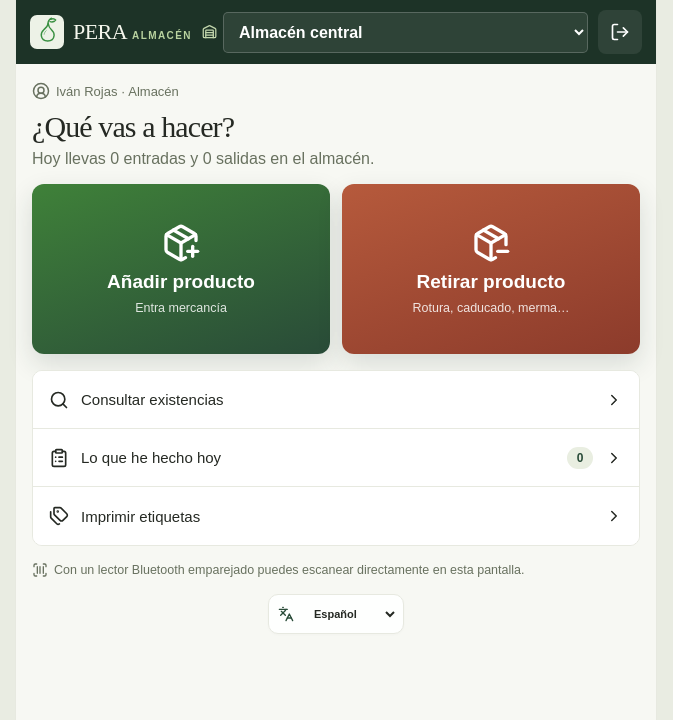
Test case: shows where the product is kept and lets the operator note where it is
Click the button "Consultar existencias" at (152, 400), box 33,371 -> 639,429
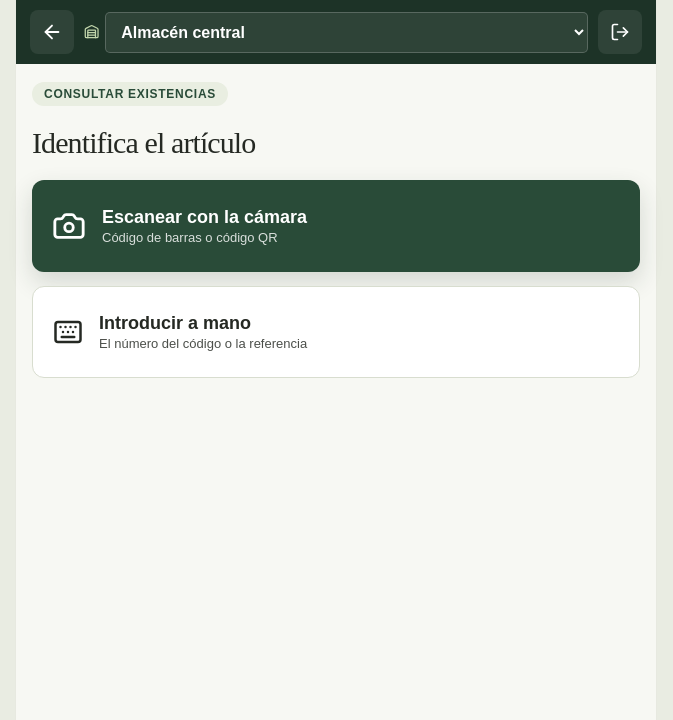
Click the text "Introducir a mano" at (175, 323), box 99,313 -> 251,333
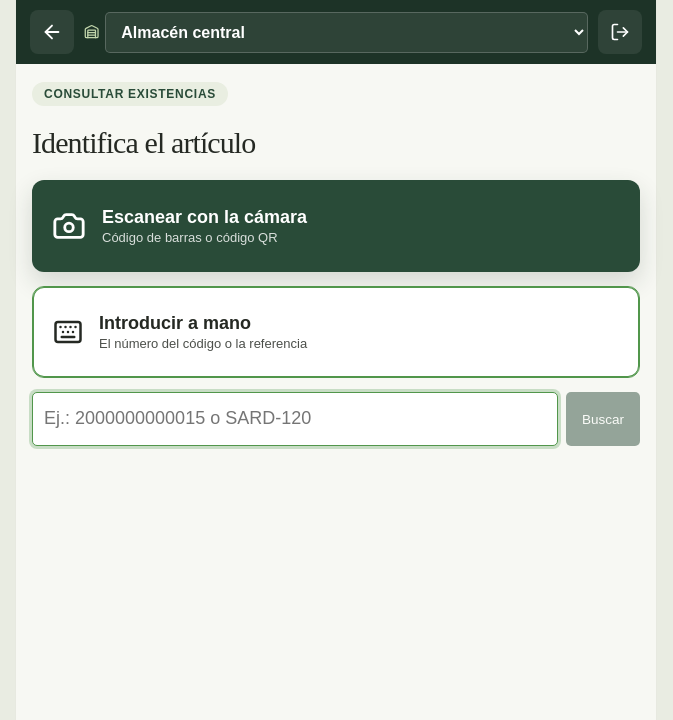
Type "SARD-120" into the field named "Código del artículo" at (295, 419), box 32,392 -> 558,446
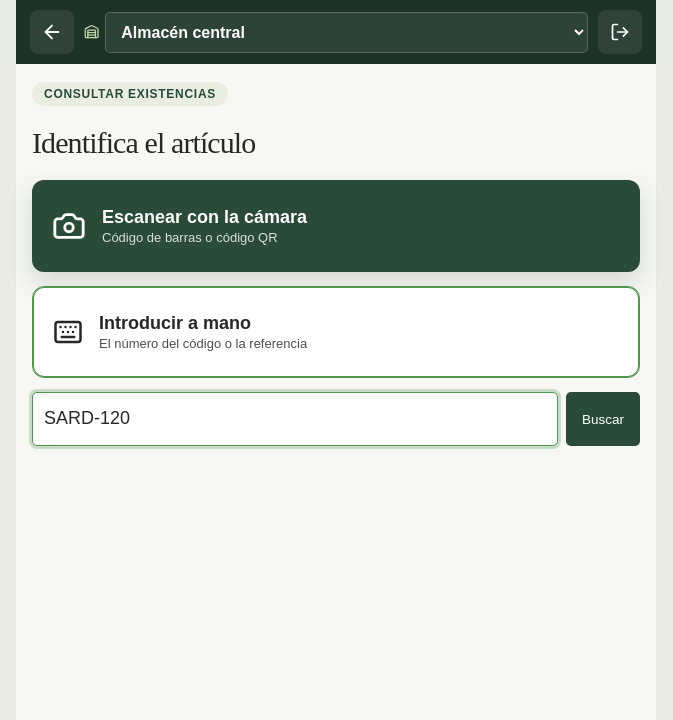
Click the button "Buscar" at (603, 419), box 566,392 -> 640,446
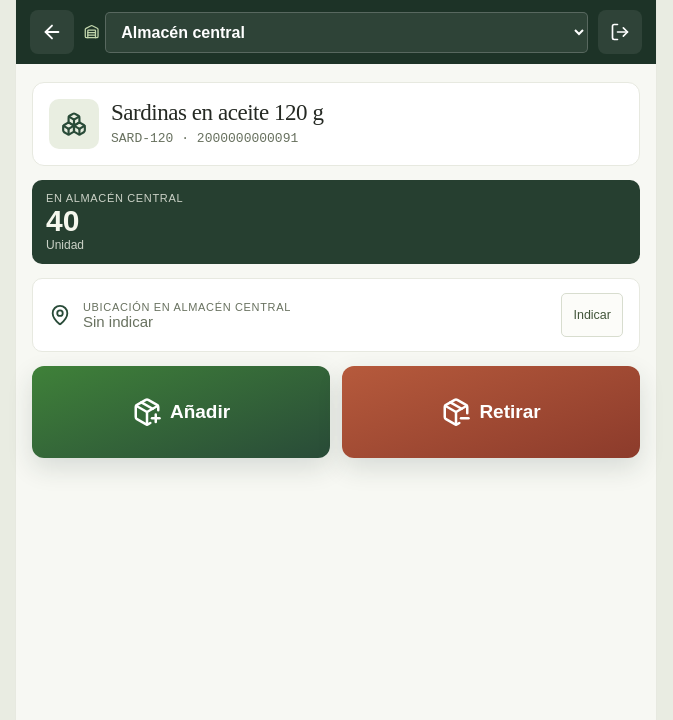
Check: the text "Sin indicar" is shown, box 83,312 -> 153,330
Click the button "Indicar" at (592, 315), box 562,293 -> 623,337
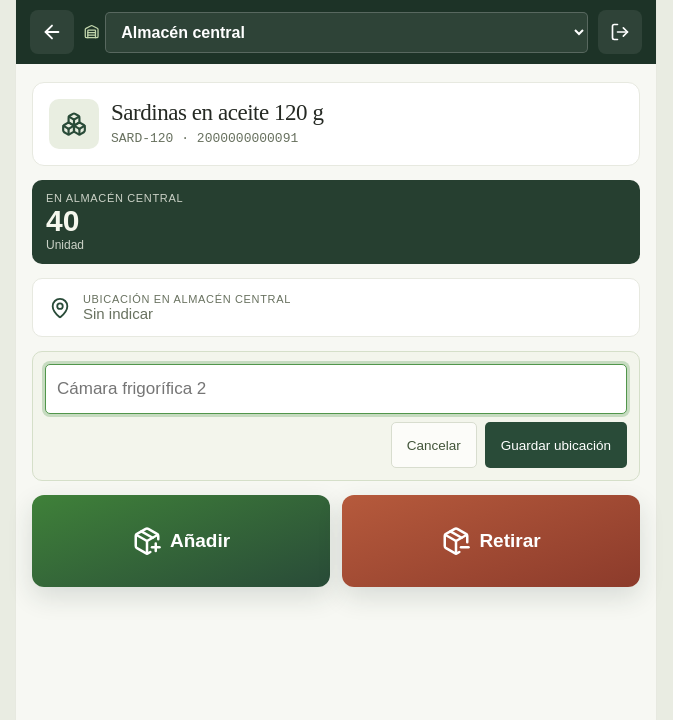
Type "Pasillo 3 · Estante B" into the field named "Ubicación" at (336, 389), box 45,364 -> 627,414
Click the button "Guardar ubicación" at (556, 445), box 485,422 -> 627,468
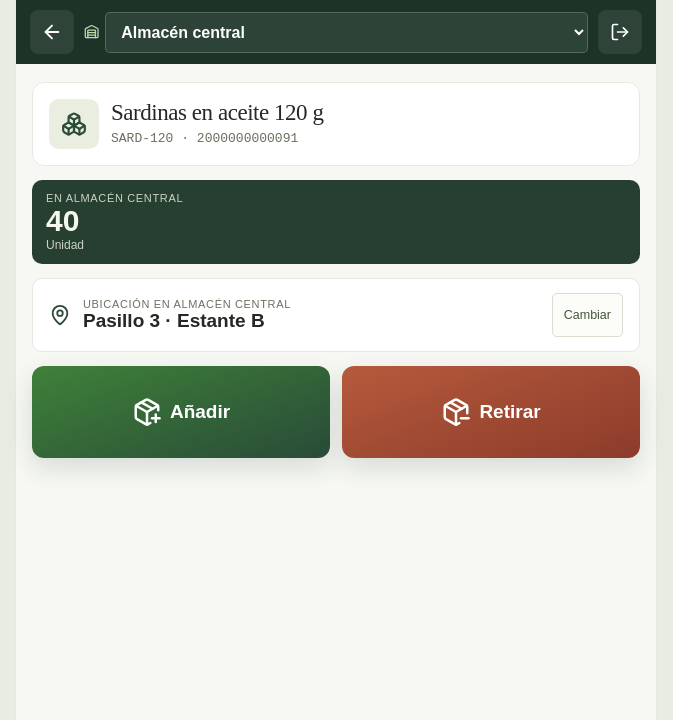
Check: the text "Sin indicar" reads "Pasillo 3 · Estante B", box 83,310 -> 265,331
